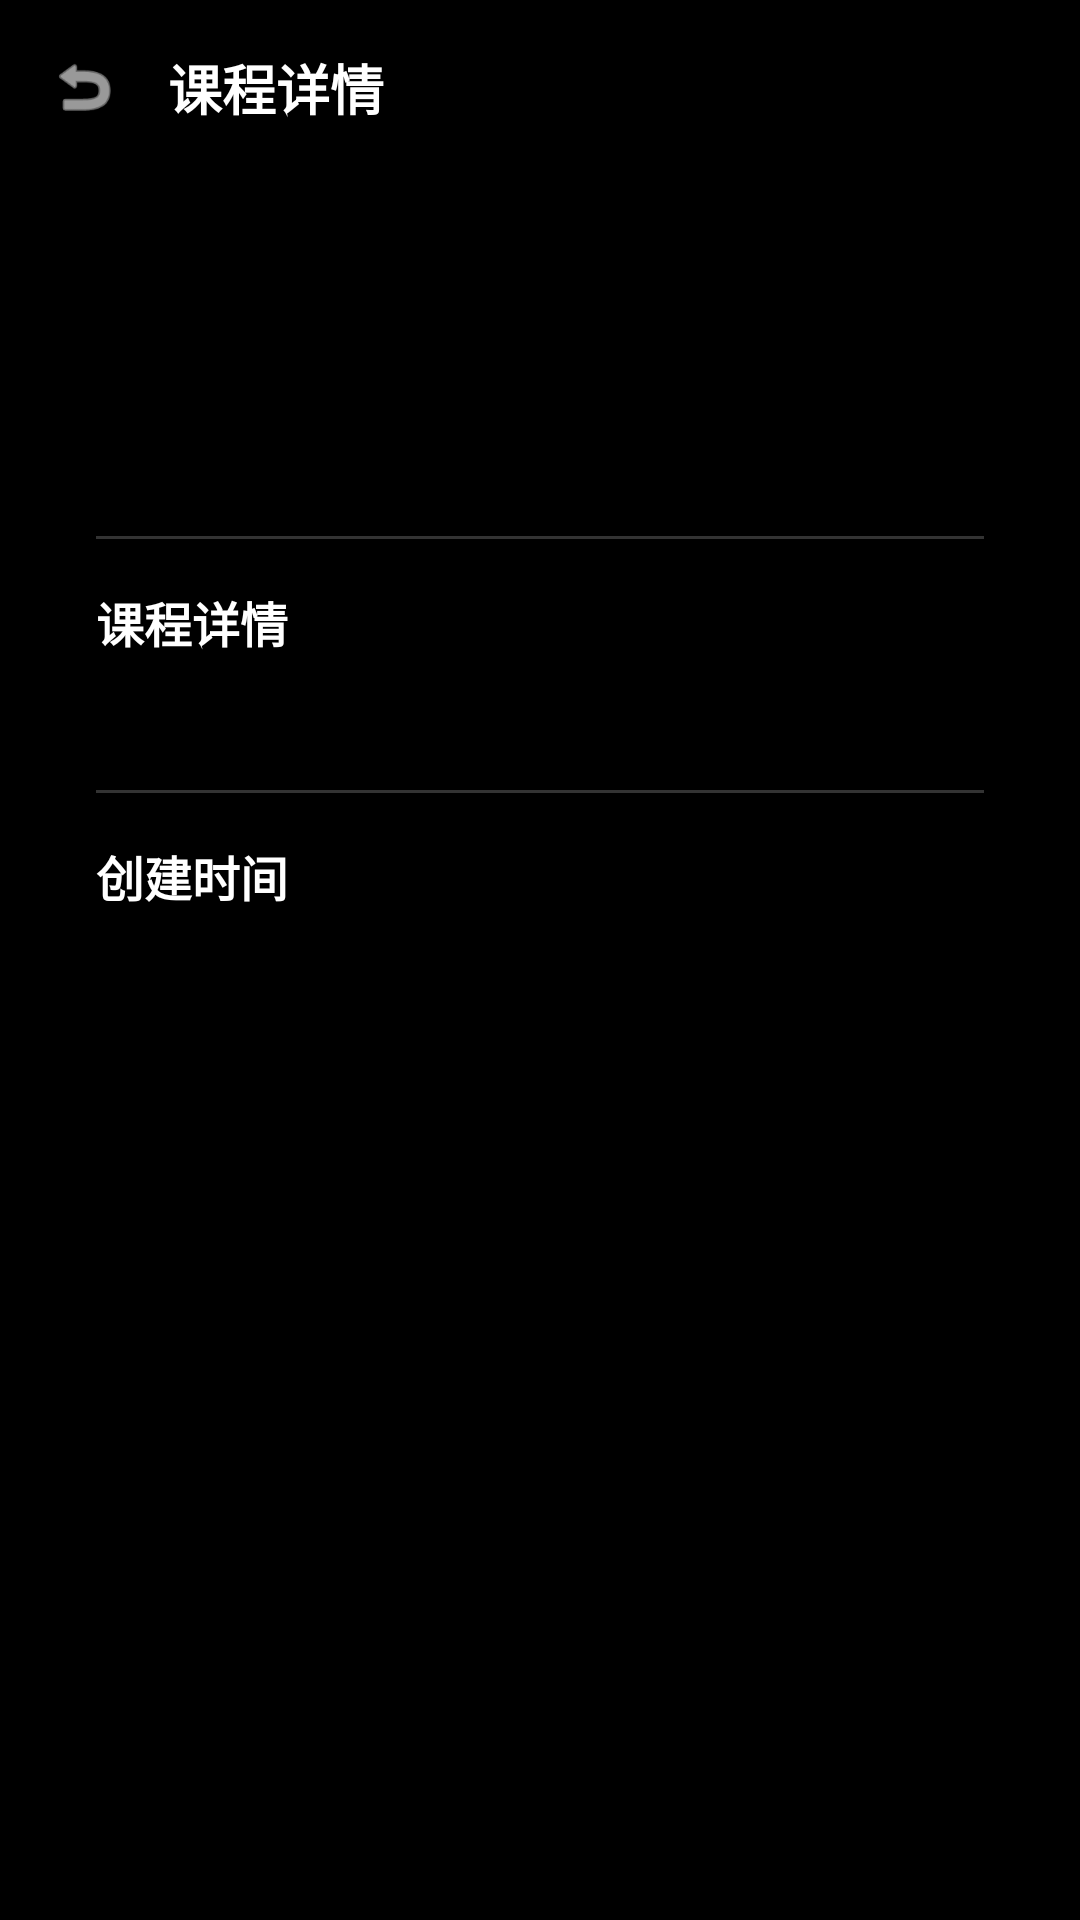

Icons on this 1080*1920 Android screen, each with the point to tap as (x,y):
revert: (85,87)
